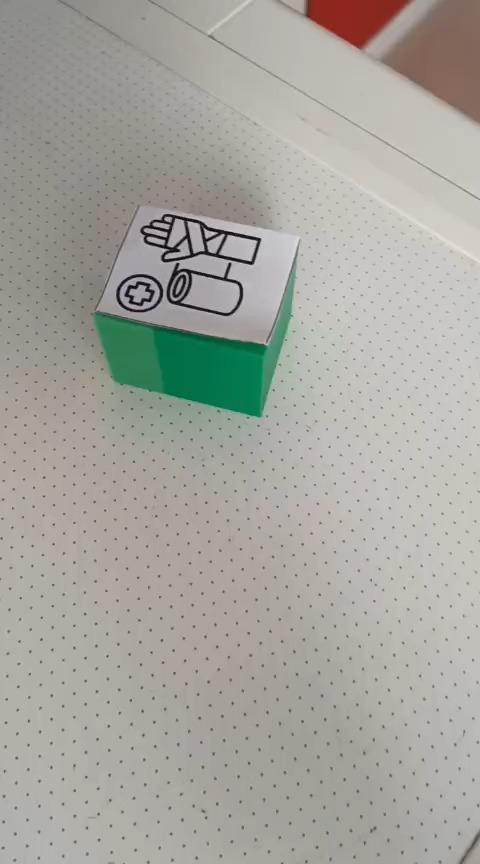Bandages: (91, 203, 300, 417)
